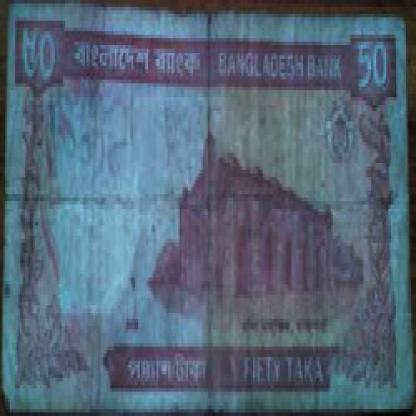Fifty taka: (23, 14, 65, 104), (354, 38, 391, 97)
